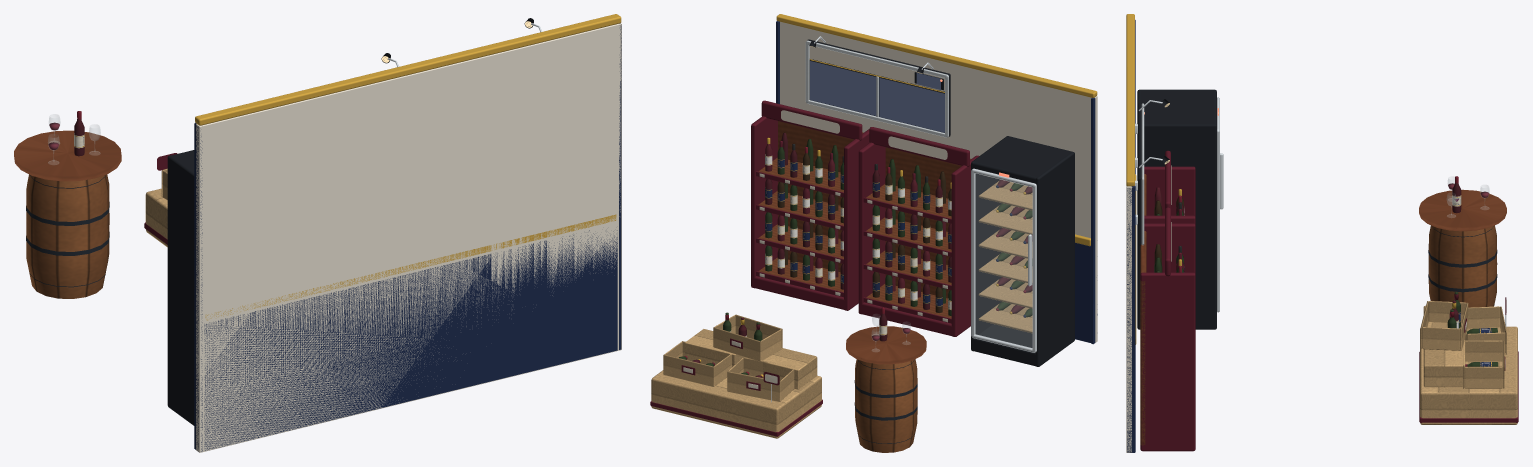
File: sector-adega_T2.fbx
The picture shows the model from 3 angles, left to right: view 1: azimuth 30°, elevation 25°; view 2: azimuth 150°, elevation 25°; view 3: azimuth 270°, elevation 25°; orthographic projection. The views are drawn at different scales.
Visible parts, largest first — view 1: Back Wall, Body; view 2: Body, Back Wall, Wall Dressing; view 3: Body, Back Wall, Wall Dressing.
Part boxes in pixels (box(x1,y1,x2,y2)): Back Wall: box(194, 14, 621, 452); Body: box(14, 111, 194, 425); Body: box(650, 100, 1074, 452); Back Wall: box(776, 14, 1097, 344); Wall Dressing: box(805, 36, 950, 137); Body: box(1137, 89, 1518, 451); Back Wall: box(1126, 14, 1136, 452); Wall Dressing: box(1135, 99, 1169, 245).
Bounding box in the file's own units: 3.25 × 2.48 × 3.21.
